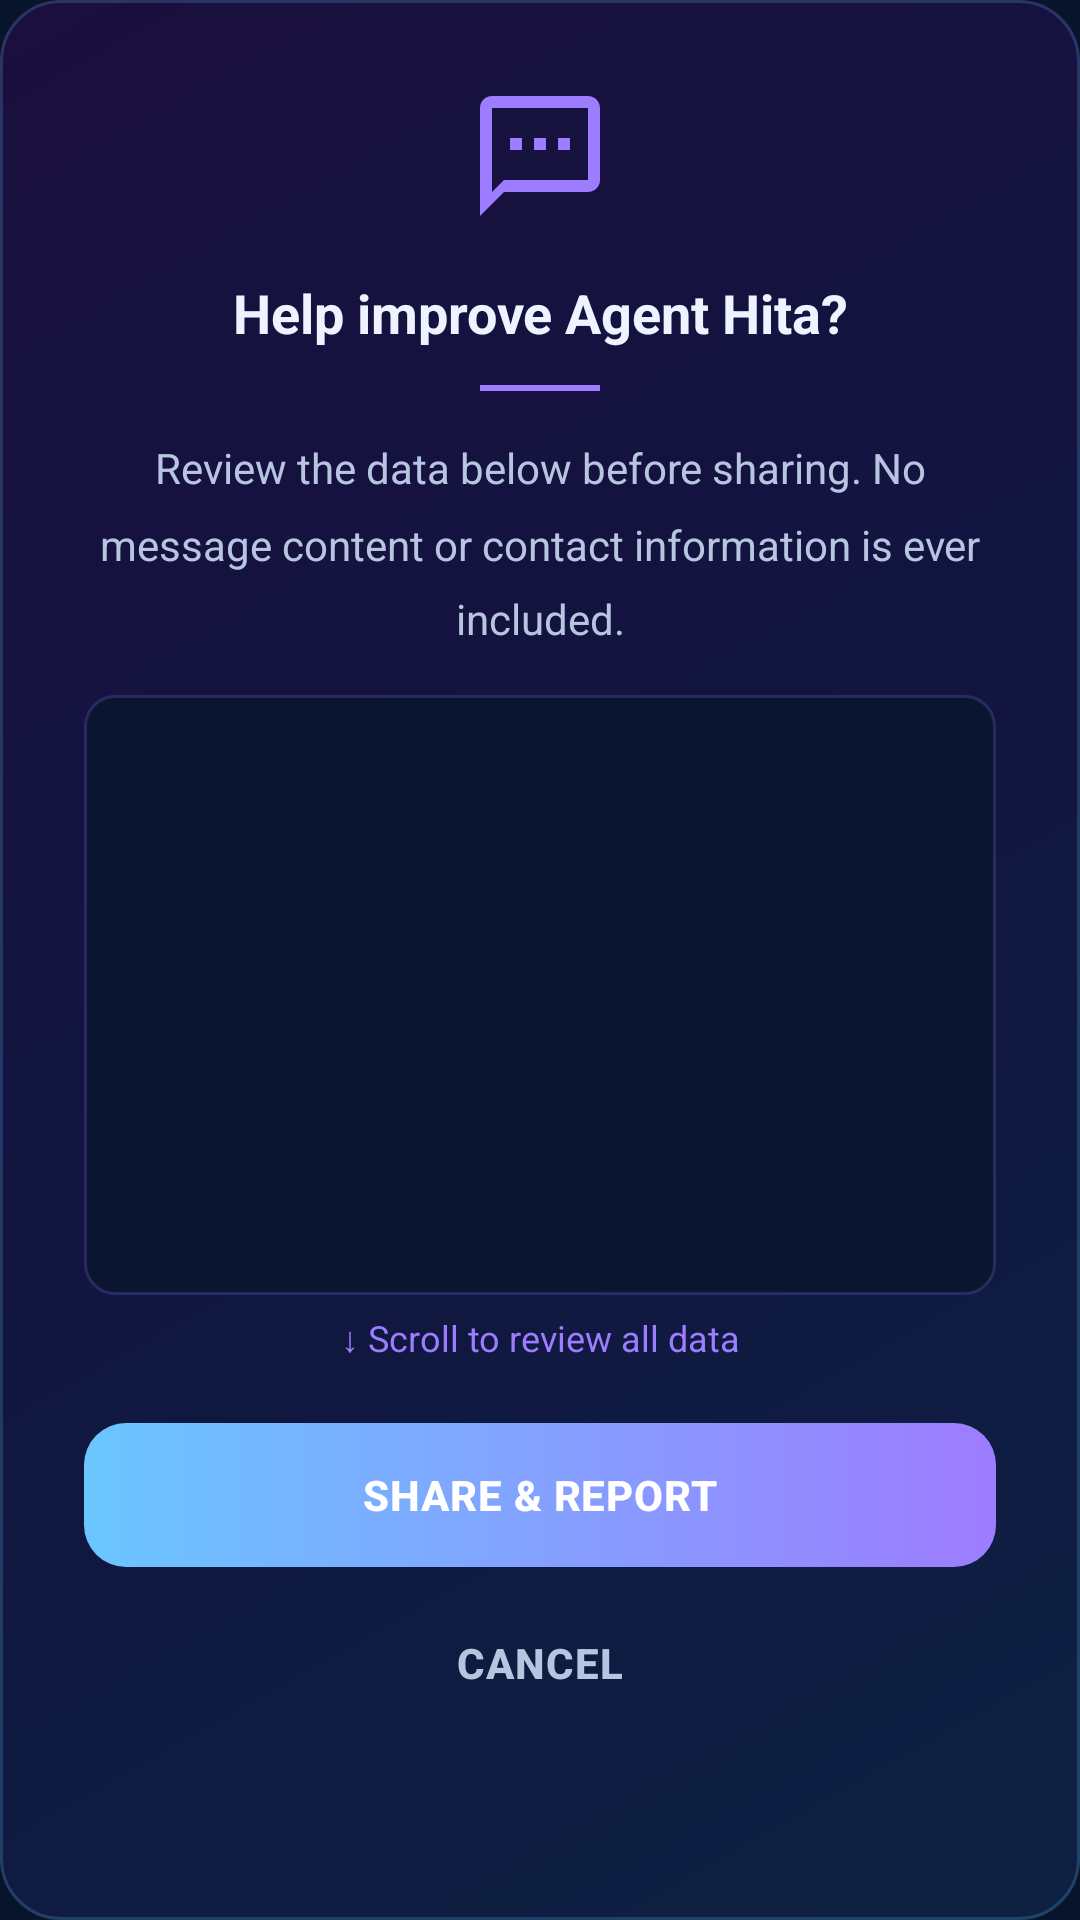

Named icons in this screenshot (1080 × 1920) and their centers, (x=x, y=y):
feedback: (x=540, y=156)
